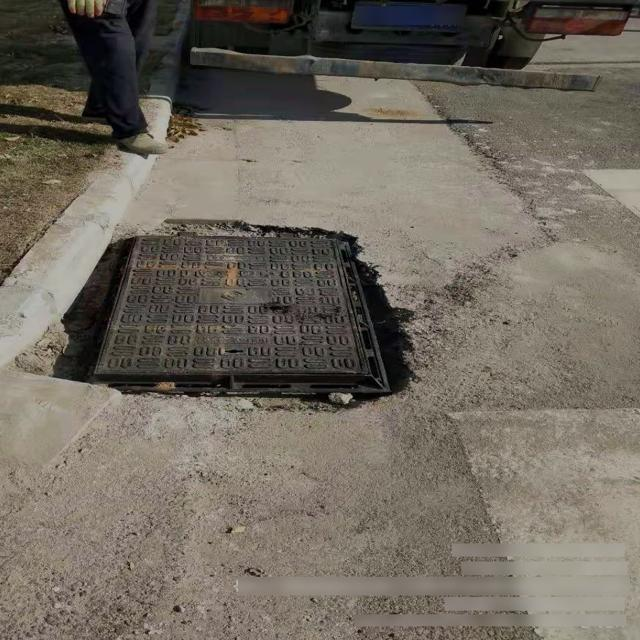circle: (47, 226, 414, 406)
